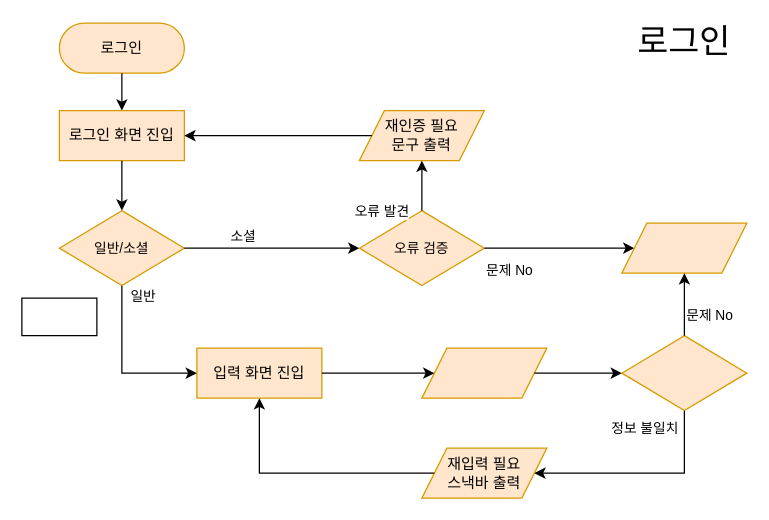
The diagram is 769 pixels wide and 520 high, and some of its shapes have lost their labels. Each missing label, with the centre of its shape:
"ID/PW 입력" goes at [484,372].
"로그인 처리 완료!" goes at [684,247].
"정보 검증" goes at [684,372].
"통합 / 분리 논의 필요" goes at [59,316].
